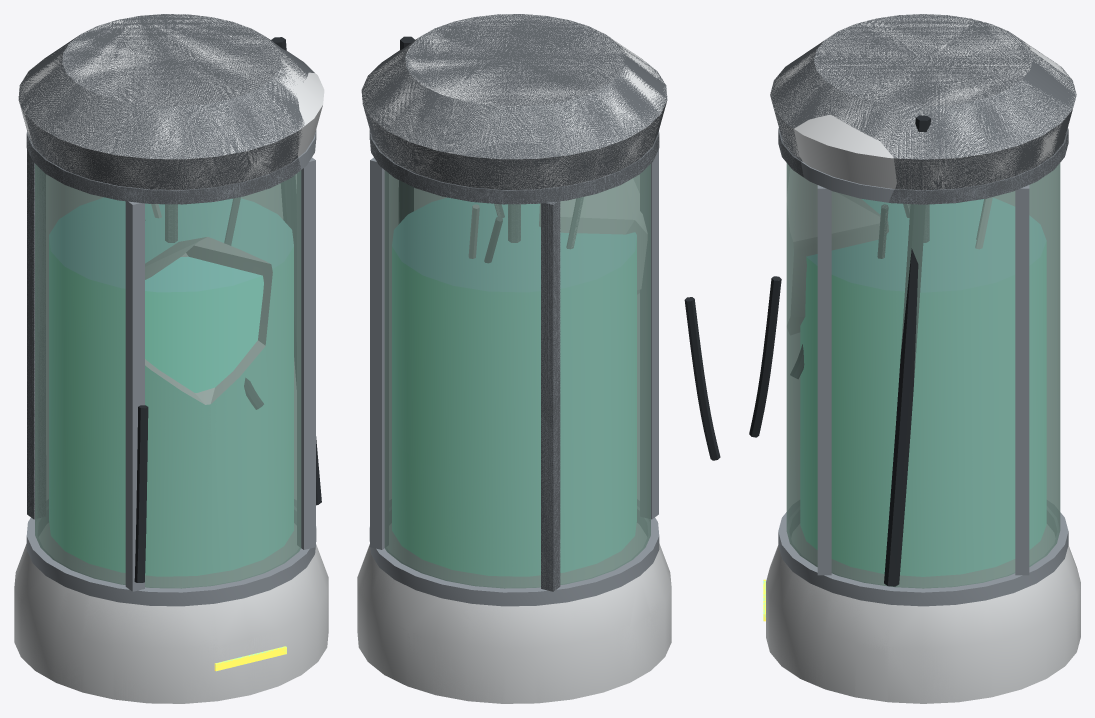
Rendered from vta_cmp_bioreactor_a.glb.
3 views of the same model, side by side, from view 1: azimuth 30°, elevation 25°; view 2: azimuth 150°, elevation 25°; view 3: azimuth 270°, elevation 25° (orthographic).
Parts seen in each view (by area): view 1: mesh_heavy, mesh_intact, mesh_light; view 2: mesh_heavy, mesh_intact, mesh_light; view 3: mesh_heavy, mesh_intact, mesh_light.
Part boxes in pixels (<box>): mesh_heavy: <box>14,14,328,703</box>; mesh_intact: <box>14,14,328,703</box>; mesh_light: <box>27,151,300,587</box>; mesh_heavy: <box>357,14,720,703</box>; mesh_intact: <box>357,14,671,703</box>; mesh_light: <box>385,165,650,587</box>; mesh_heavy: <box>749,14,1080,703</box>; mesh_intact: <box>763,14,1080,703</box>; mesh_light: <box>787,164,1059,587</box>.
Bounding box in the file's own units: 0.4945 × 1 × 0.5209.
